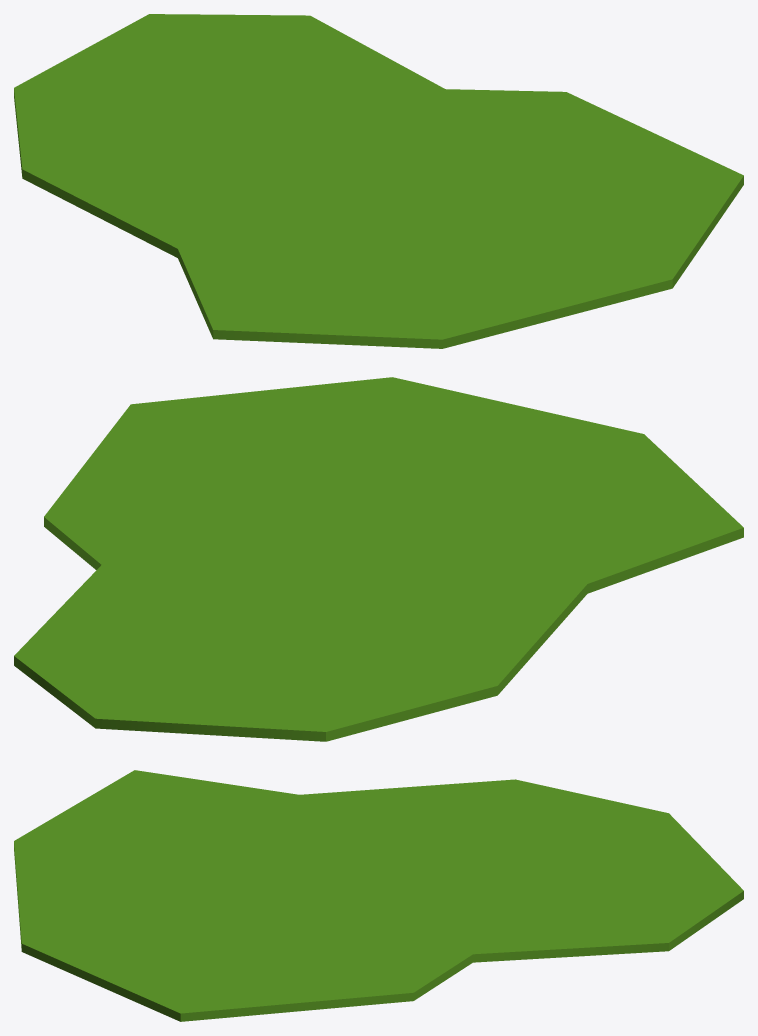
Rendered from floor.FBX.
The picture shows the model from 3 angles, top to bottom: view 1: azimuth 30°, elevation 25°; view 2: azimuth 150°, elevation 25°; view 3: azimuth 270°, elevation 25°; orthographic projection. The views are drawn at different scales.
Parts seen in each view (by area): view 1: floor; view 2: floor; view 3: floor.
Part boxes in pixels (bbox=[...]): floor: bbox=[14, 14, 743, 348]; floor: bbox=[14, 377, 743, 741]; floor: bbox=[14, 770, 743, 1021].
Size of the model in its own units: 625 by 10 by 792.
